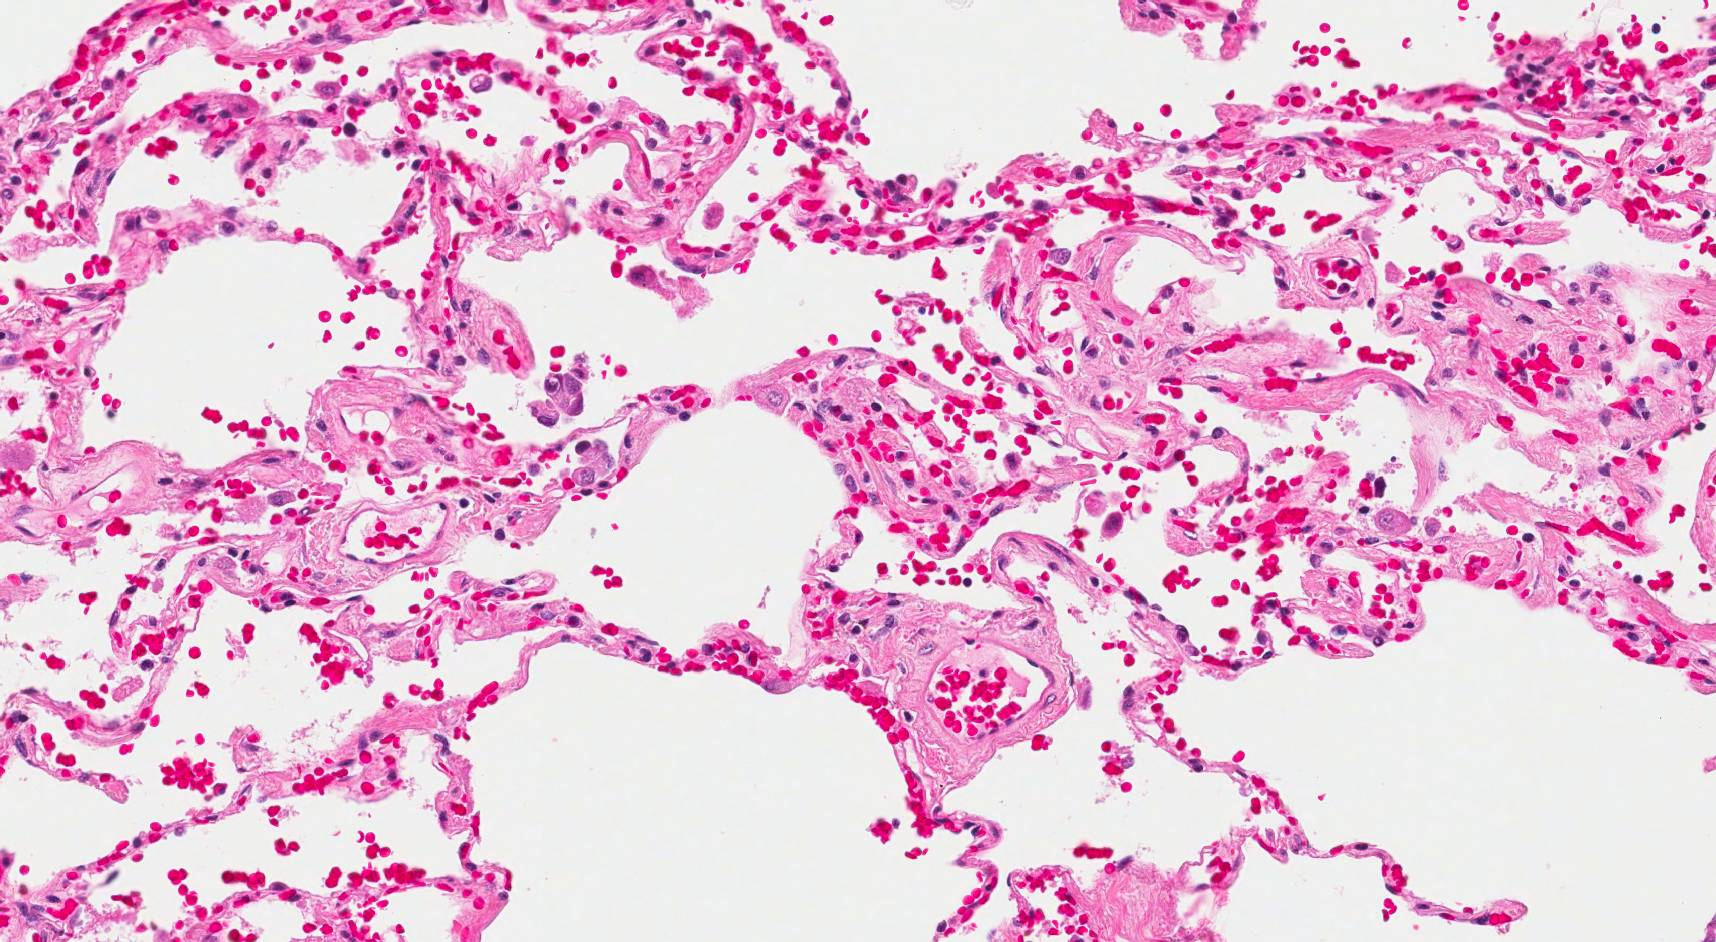stas: (527, 363, 588, 426), (568, 438, 616, 491)
